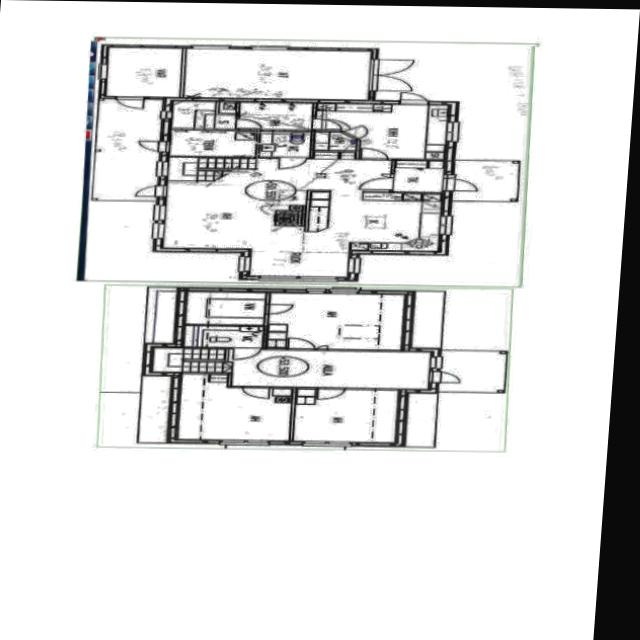room: (266, 293, 404, 350), (178, 374, 291, 442), (314, 104, 446, 159), (293, 389, 397, 442), (185, 292, 264, 325), (169, 130, 255, 157), (238, 102, 312, 131), (171, 101, 235, 129), (184, 326, 261, 348), (392, 160, 442, 193), (260, 132, 310, 157), (314, 132, 356, 151)
